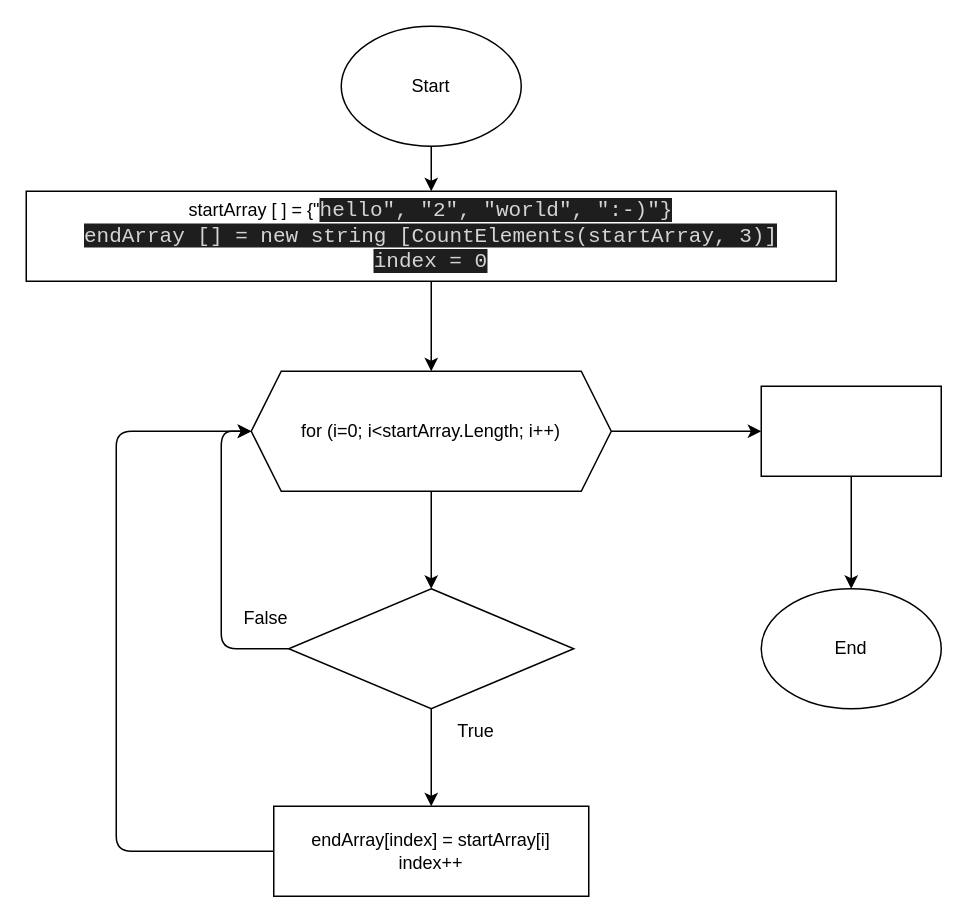
The diagram is 968 pixels wide and 923 high, and some of its shapes have lost their labels. The centre of each missing label's shape, as x and y in pixels:
"return endArray [ ]" belongs at point (850, 430).
"startArray[i].Length<=3" belongs at point (430, 648).
